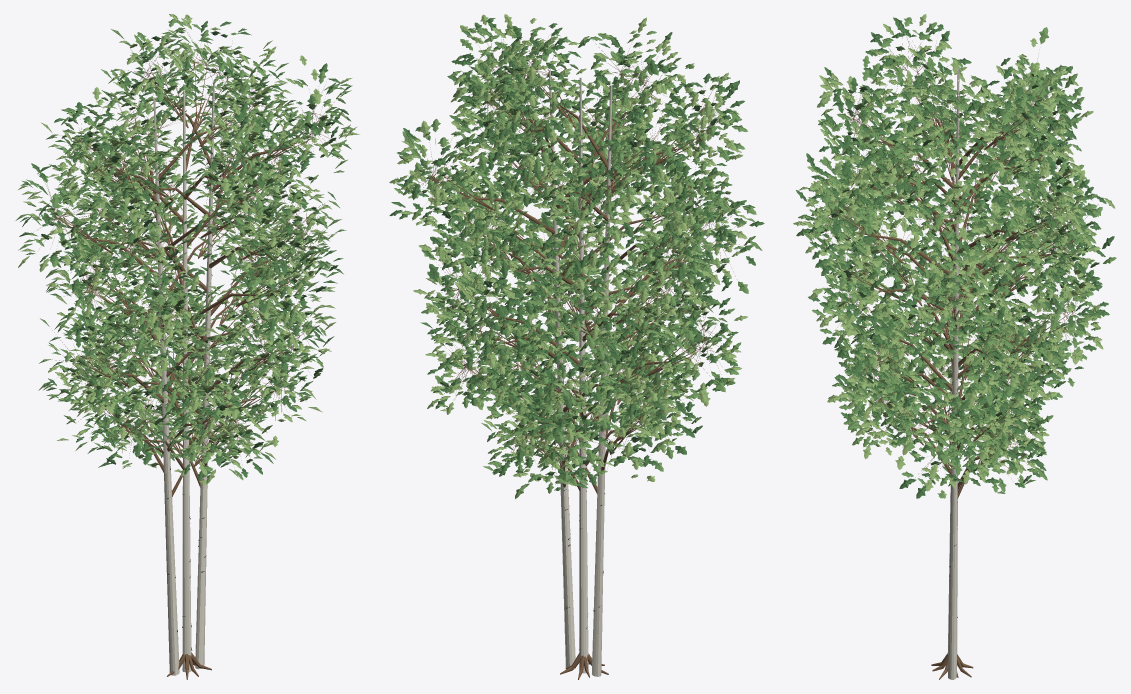
The model's file is birch-tree.glb.
3 views of the same model, side by side, from view 1: azimuth 30°, elevation 25°; view 2: azimuth 150°, elevation 25°; view 3: azimuth 270°, elevation 25° (orthographic). The views are drawn at different scales.
Parts seen in each view (by area): view 1: birch-tree; view 2: birch-tree; view 3: birch-tree.
Boxes of the visible parts, box(x1,y1,x2,y2) form: birch-tree: box(15, 14, 359, 679); birch-tree: box(389, 14, 764, 679); birch-tree: box(793, 14, 1116, 679).
Size of the model in its own units: 2.3 by 4.5 by 2.1.
